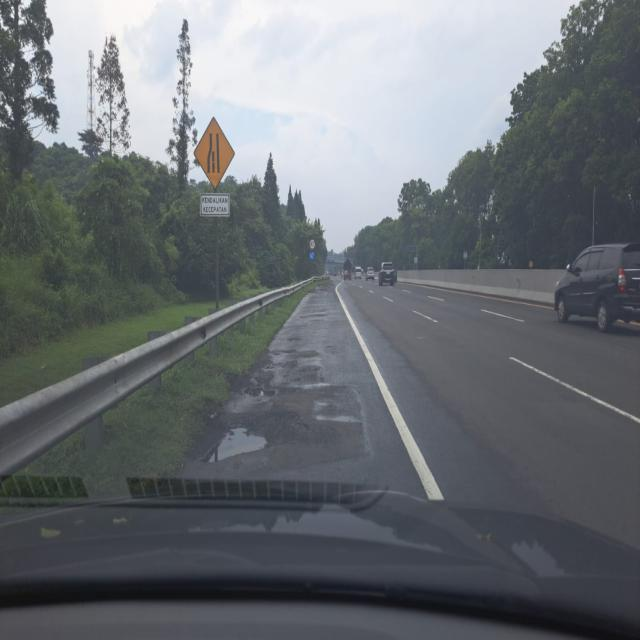Buraco: (190, 420, 274, 466), (236, 368, 284, 402)
